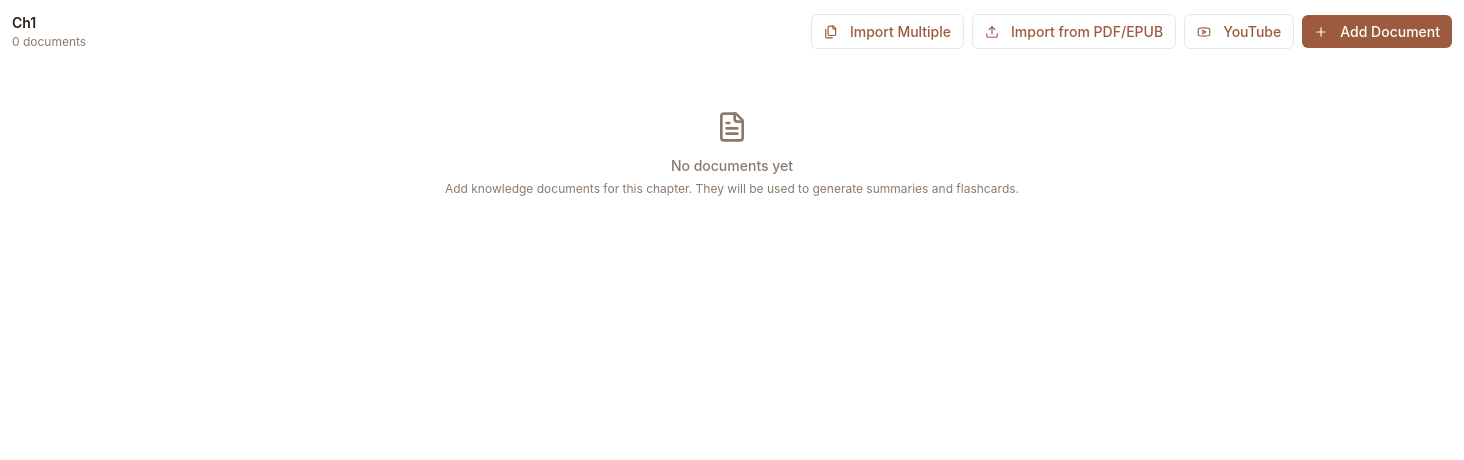
Scenario: KnowledgeDocumentsTab › opens inline create form
The width and height of the screenshot is (1464, 460).
What coordinates should you click on to do the following:
click the button "Add Document"
I would click on:
 (1377, 32)
Its box is top-left (1302, 15), bottom-right (1452, 48).
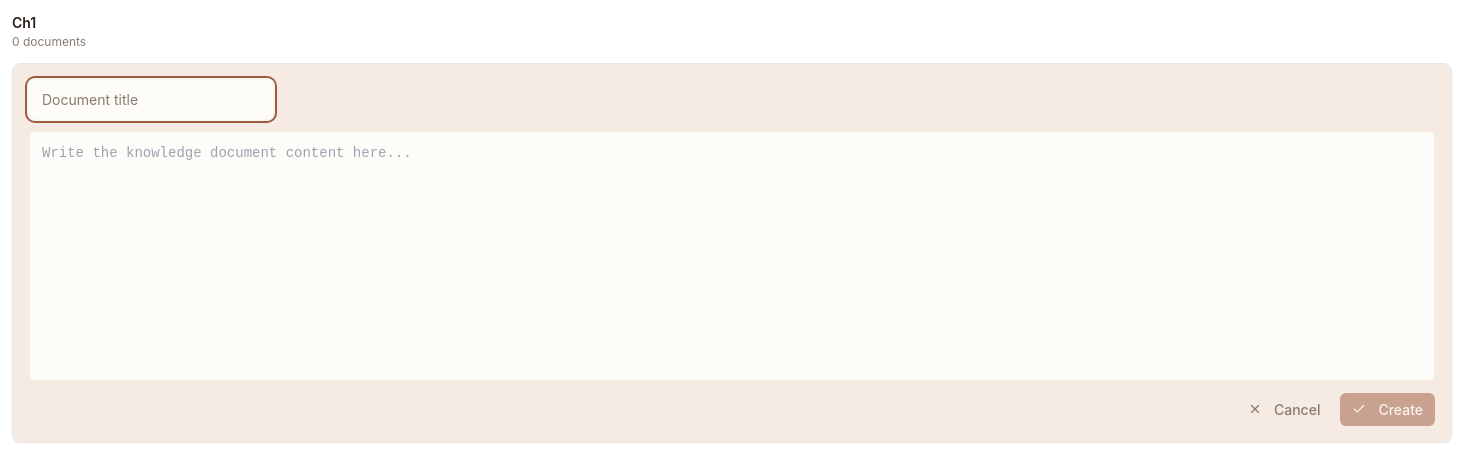
Expected: the field with placeholder "Document title" is shown, top-left (29, 80), bottom-right (273, 119)
